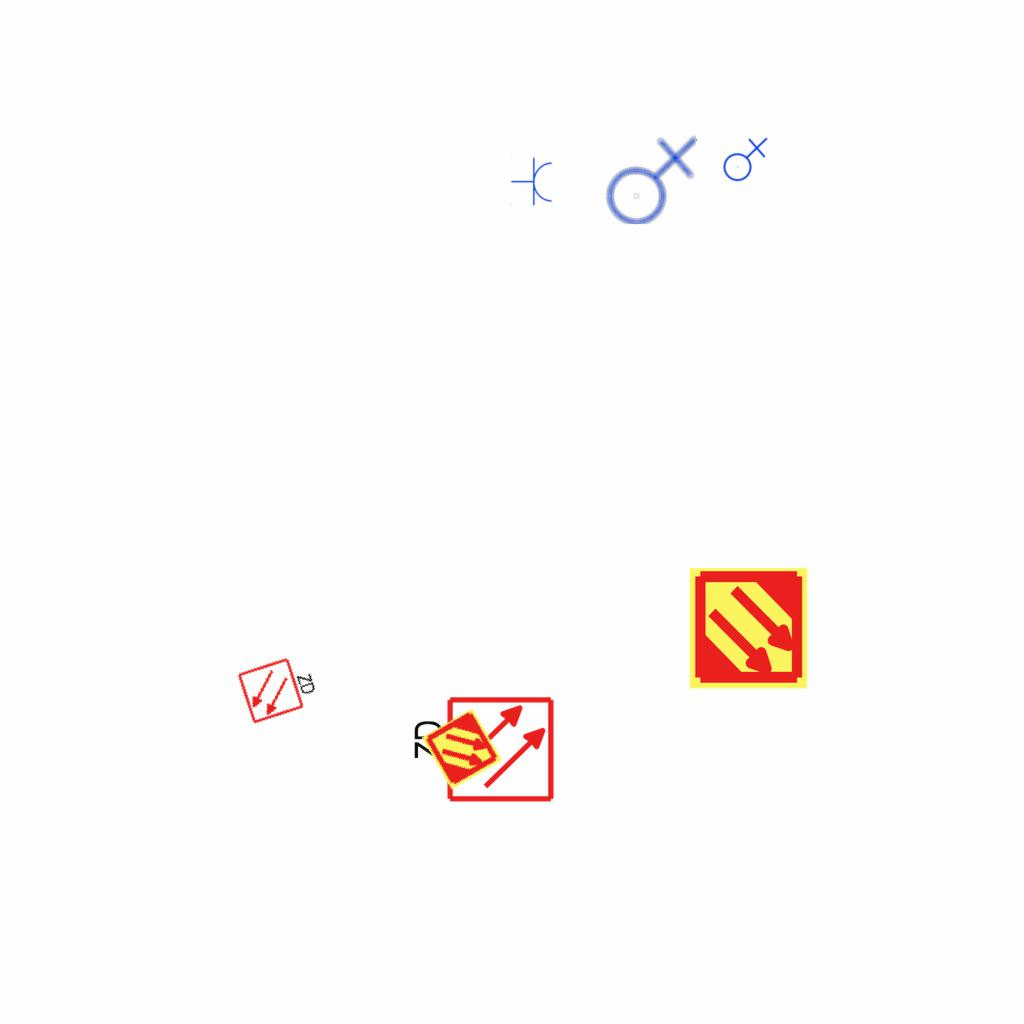ASR_Ansaugrauchmelder: (686, 566, 811, 691), (419, 706, 505, 792)
Elektroanschluss_allgemein_230V_Geraeteanschlussdose_230V: (599, 132, 698, 226), (719, 135, 768, 182)
Schukosteckdose_einfach: (511, 157, 554, 207)
ZD_Melder_in_Zwischendecke_mit_Revisionsoeffnung_mind_40_x_40_cm: (407, 694, 556, 808), (235, 648, 324, 726)
